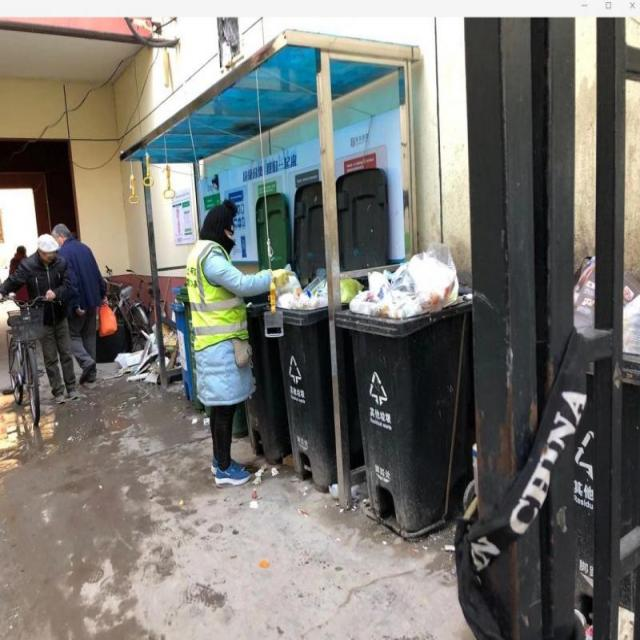overflow: (333, 242, 472, 535), (266, 265, 364, 491)
